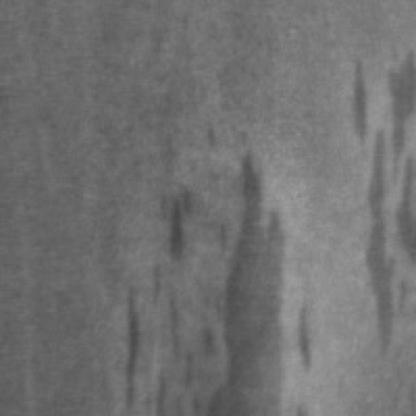inclusion: (194, 143, 320, 412), (350, 43, 416, 351), (125, 274, 204, 414), (154, 179, 206, 268)
